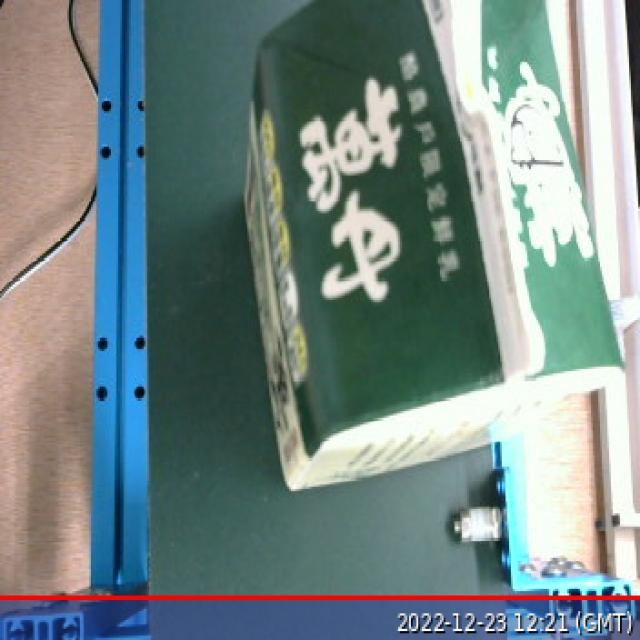non_white_jug: (221, 0, 637, 517)
